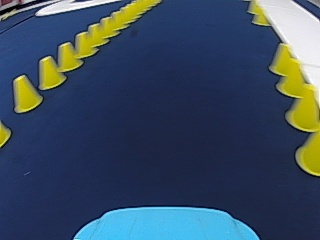cone: (274, 47, 312, 95), (284, 82, 319, 129), (11, 74, 42, 112), (295, 129, 319, 174), (37, 55, 64, 89), (269, 42, 295, 77), (55, 41, 79, 71), (73, 31, 94, 57), (85, 23, 104, 48), (97, 16, 115, 39), (252, 11, 268, 25)
